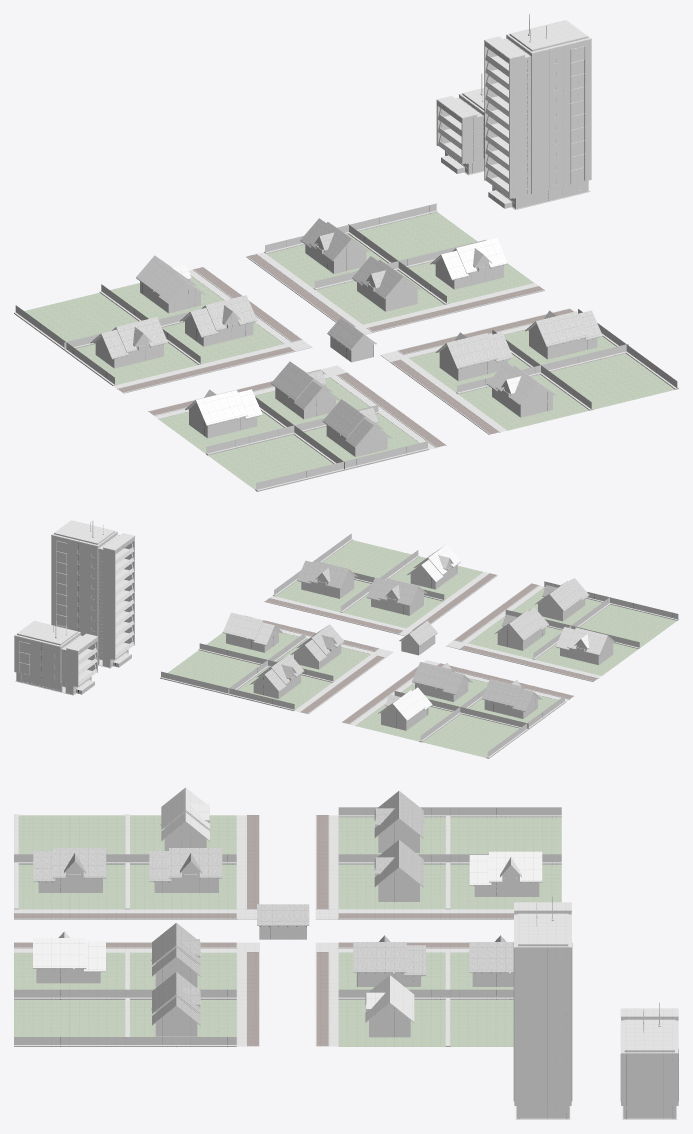
File: world-textured.glb
3 renders of one model, top to bottom at view 1: azimuth 30°, elevation 25°; view 2: azimuth 150°, elevation 25°; view 3: azimuth 270°, elevation 25°, orthographic. The views are drawn at different scales.
Parts seen in each view (by area): view 1: Cube.024; view 2: Cube.024; view 3: Cube.024.
Part boxes in pixels (<box>): Cube.024: <box>14,14,678,491</box>; Cube.024: <box>14,520,678,758</box>; Cube.024: <box>14,787,678,1119</box>.
Bounding box in the file's own units: 156 × 47.5 × 143.
Materials: 5 (5 with a texture image).
